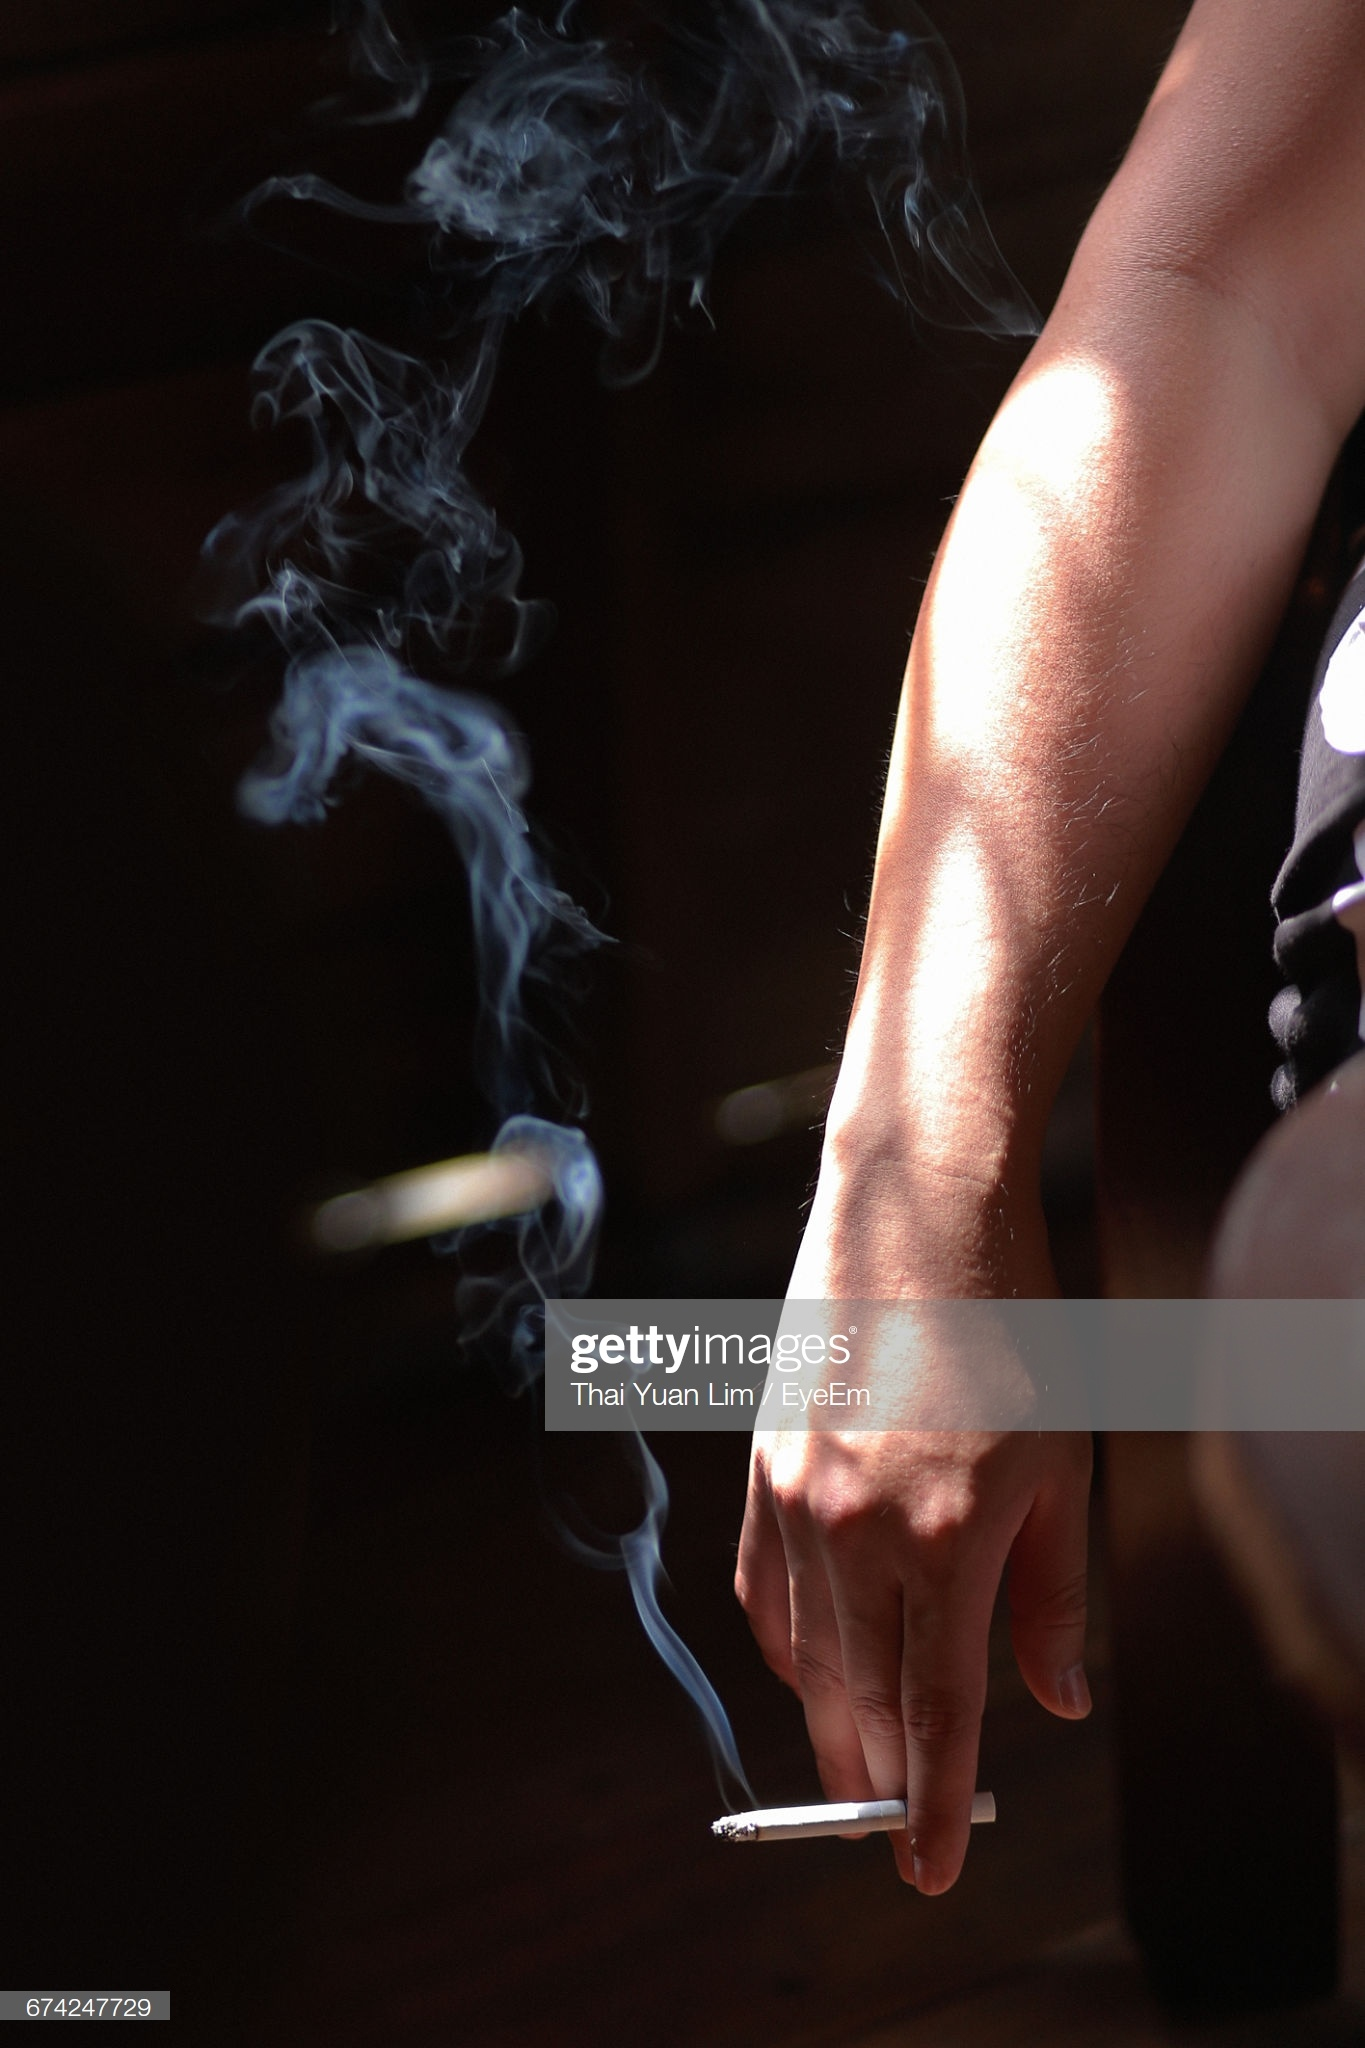sigaretta: (711, 1763, 1012, 1858)
